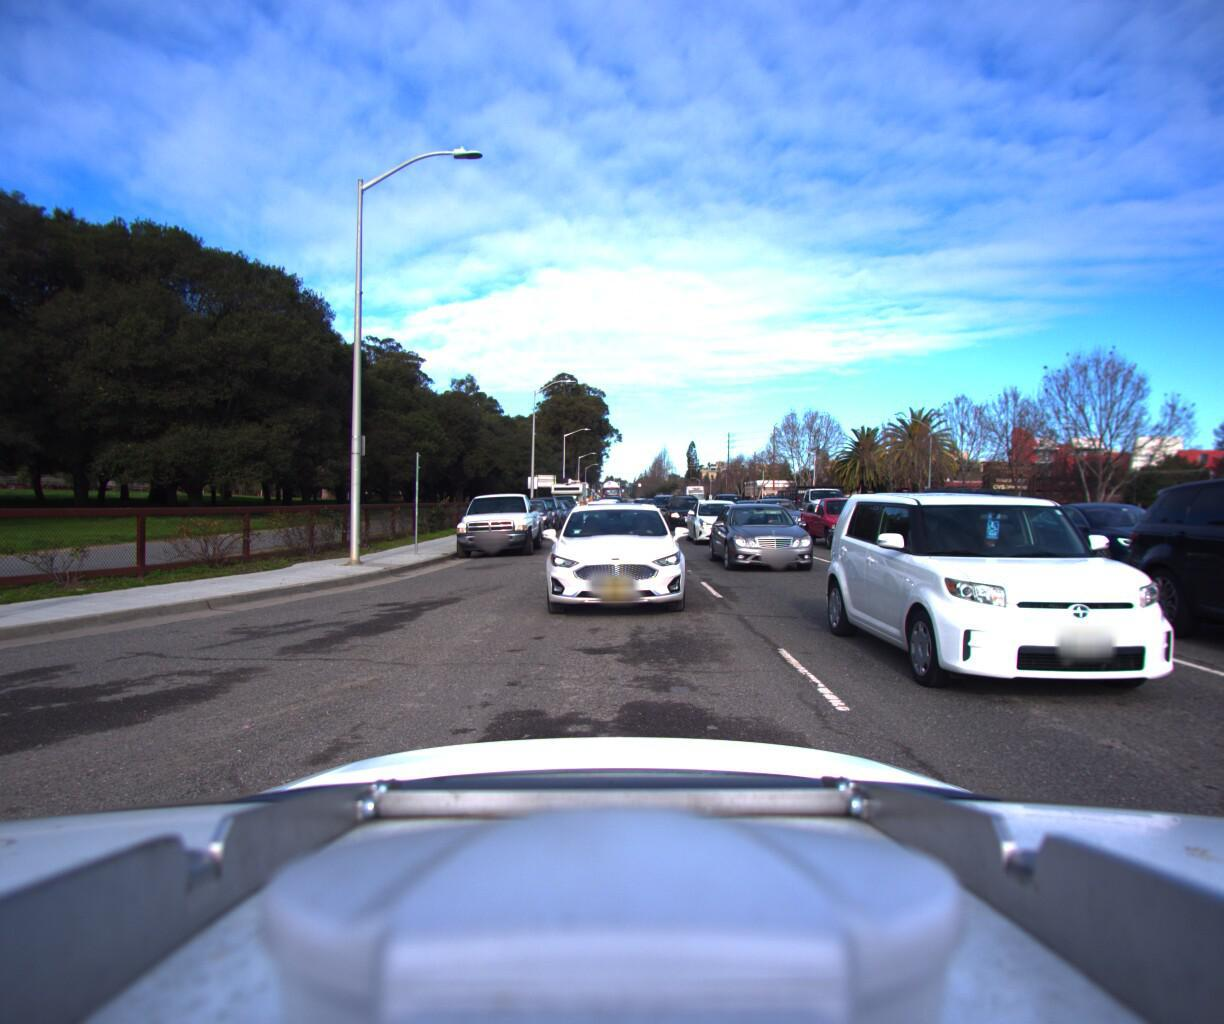car: (829, 475, 1224, 743), (1122, 446, 1224, 755), (536, 494, 695, 625), (1007, 498, 1224, 580), (882, 490, 1052, 581), (706, 497, 823, 571), (906, 480, 1038, 543), (444, 488, 545, 555), (798, 490, 891, 552), (679, 495, 748, 544), (744, 495, 809, 535), (571, 496, 623, 537), (503, 495, 551, 535), (658, 494, 701, 528), (519, 494, 560, 529), (644, 496, 684, 524), (544, 492, 577, 518)
other_vehicle: (544, 480, 586, 518)
truck: (769, 477, 862, 536)
